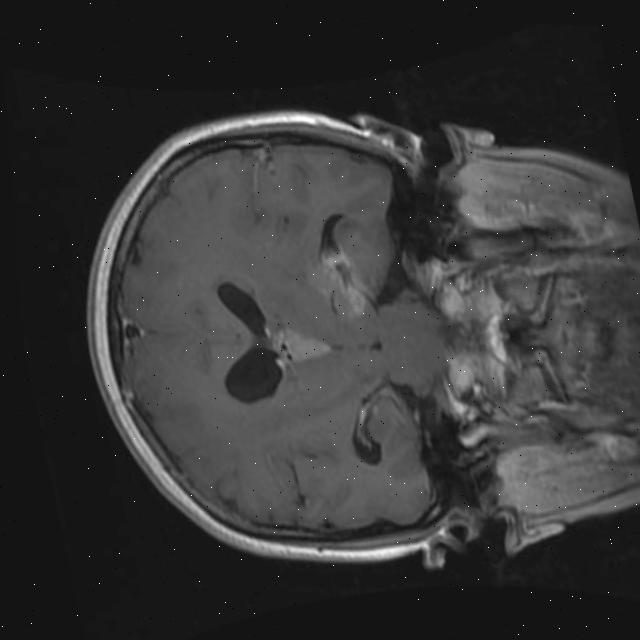Glioma: (310, 245, 372, 323)
